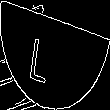L_N: (42, 26, 68, 84)
